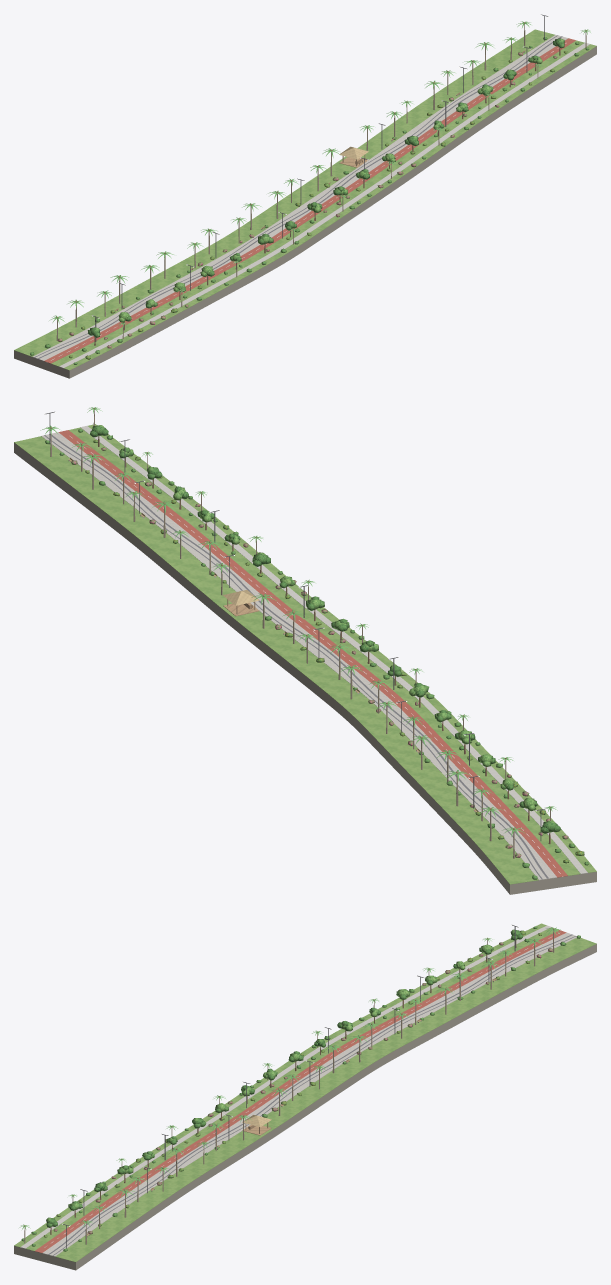
Rendered from parque_09.glb.
3 views of the same model, one above another, from view 1: azimuth 90°, elevation 25°; view 2: azimuth 150°, elevation 25°; view 3: azimuth 270°, elevation 25° (orthographic). The views are drawn at different scales.
Visible parts, largest first — view 1: parque_09; view 2: parque_09; view 3: parque_09.
Boxes of the visible parts, left/top/right/bottom form: parque_09: left=14, top=14, right=596, bottom=378; parque_09: left=14, top=411, right=596, bottom=894; parque_09: left=14, top=923, right=596, bottom=1270.
Bounding box in the file's own units: 263 × 14.42 × 191.
Materials: 22 (14 with a texture image).
